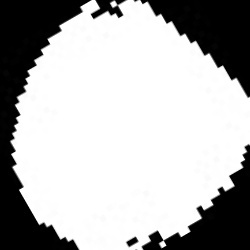spot: (10, 2, 248, 247)
